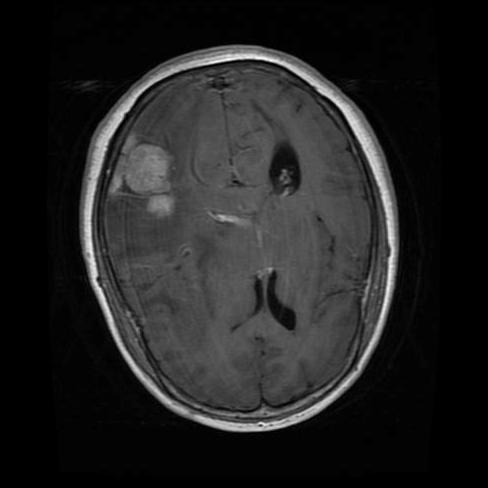Tumour-Meningioma: (105, 121, 198, 228)
